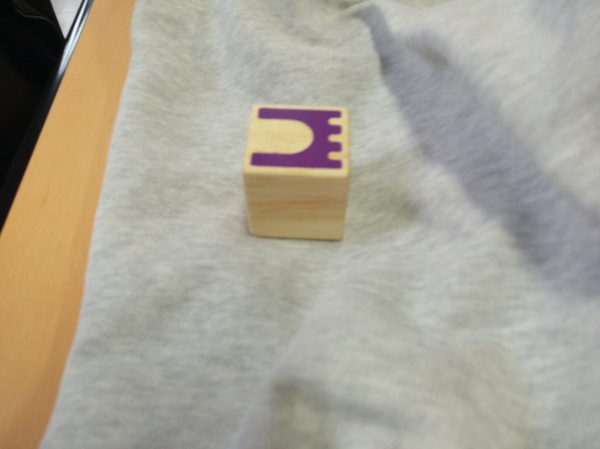violet: (244, 102, 351, 231)
